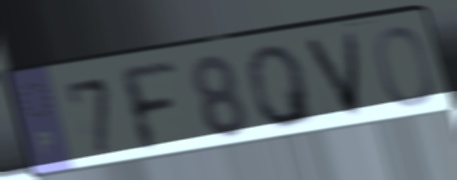7: (60, 73, 116, 158)
8: (188, 51, 252, 141)
F: (112, 59, 182, 156)
O: (371, 23, 437, 111)
Q: (242, 41, 322, 132)
V: (299, 27, 367, 122)
